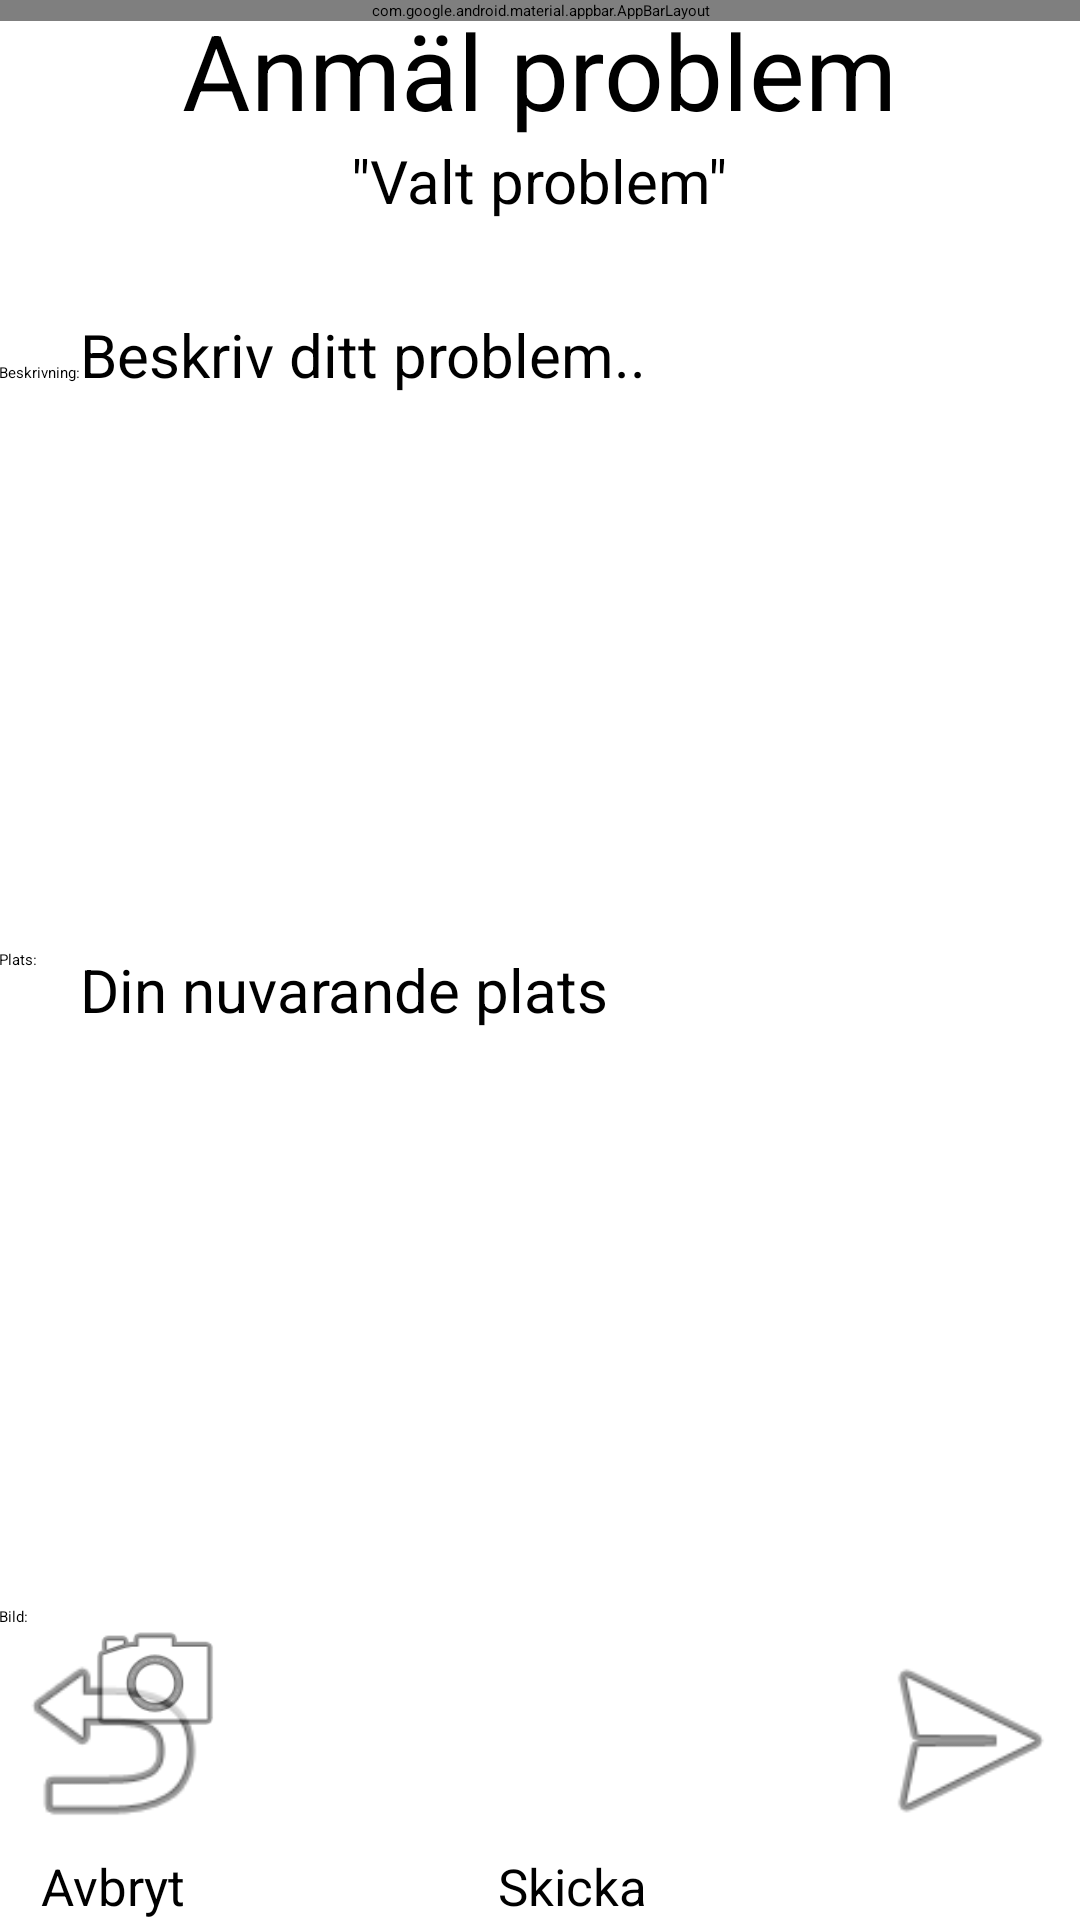

Icons on this 1080*1920 Android screen, each with the point to tap as (x,y):
send: (970,1740)
